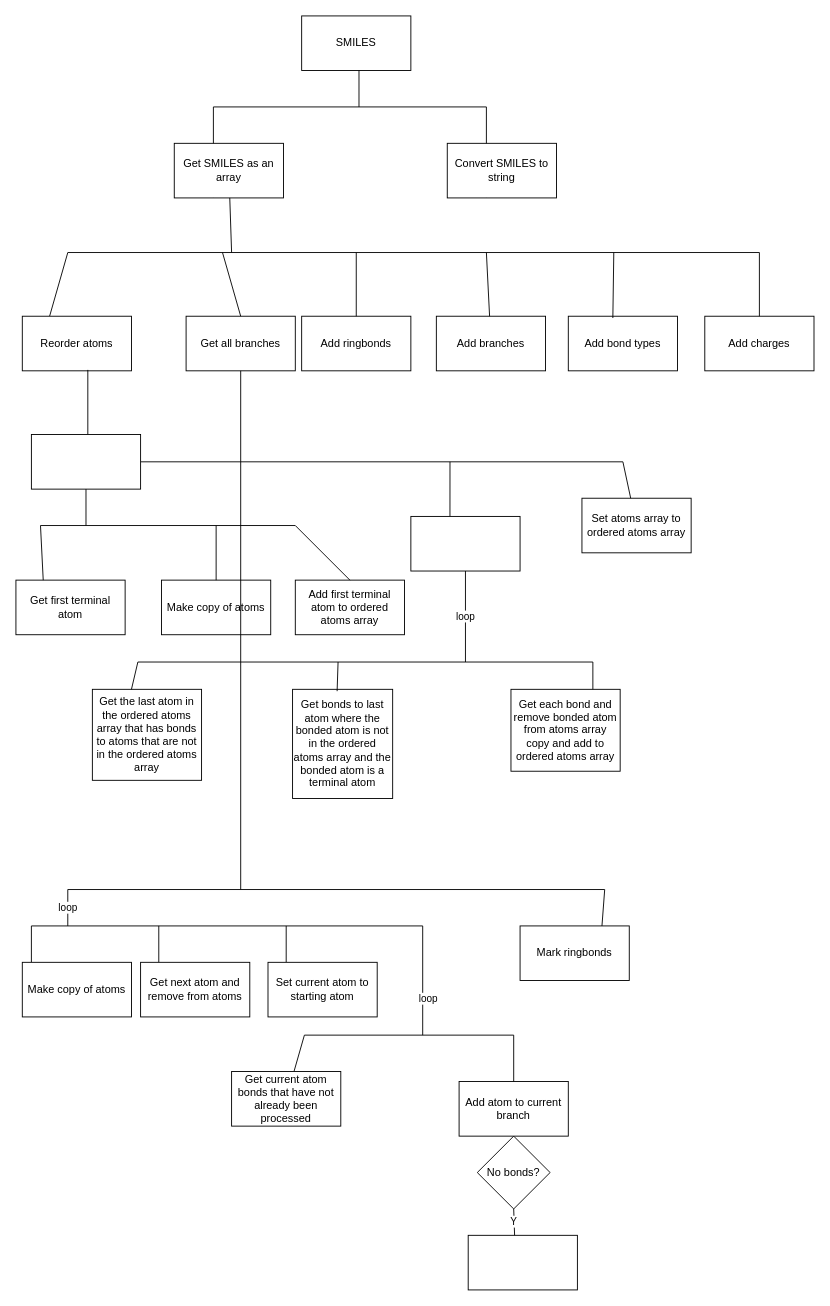
This 830x1306 diagram has some shape labels left out. Here are the shapes that lost their labels. From the top down, the box of each, then its label:
(30, 434, 141, 489): Set ordered atoms array and add first terminal atom
(410, 516, 520, 571): Add atoms to ordered atoms array
(467, 1234, 577, 1290): Push current branch
